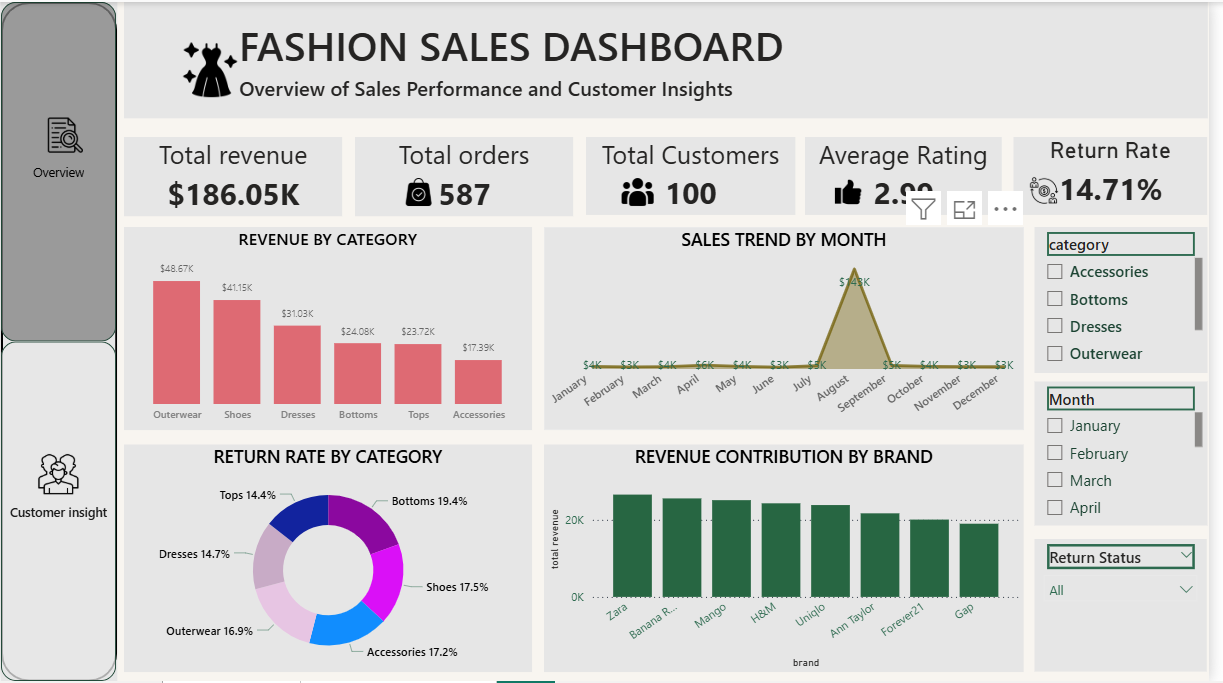

The dashboard page shown, as its layout file describes it:
{"tool":"powerbi","page":{"name":"Overview","canvas":[1280,720],"ordinal":0},"visuals":[{"type":"textbox","box":[131.2,0,1149.7,123.1],"z":0},{"type":"image","box":[186.2,43.7,71.2,58.3],"z":1000},{"type":"card","title":"Total revenue","fields":{"Values":["Sum(cleaned_dataset (2).current_price)"]},"box":[131.2,142.5,231.5,84.2],"z":2000},{"type":"card","title":"Total orders","fields":{"Values":["Count(cleaned_dataset (2).order_id)"]},"box":[375.7,142.5,231.5,84.2],"z":3000},{"type":"card","title":"Total Customers","fields":{"Values":["Count(cleaned_dataset (2).customer_id)"]},"box":[620.2,142.5,221.8,82.6],"z":4000},{"type":"card","title":"Average Rating","fields":{"Values":["cleaned_dataset (2).avg rating"]},"box":[853.3,142.5,208.9,82.6],"z":5000},{"type":"card","title":"Return Rate","fields":{"Values":["Avg(cleaned_dataset (2).is_returned)"]},"box":[1073.5,142.5,205.6,82.6],"z":6000},{"type":"shape","box":[0,0,123.1,720.6],"z":7000},{"type":"pageNavigator","box":[0,0,122.5,720.5],"z":8000},{"type":"columnChart","title":"REVENUE BY CATEGORY","fields":{"Y":["Sum(cleaned_dataset (2).current_price)"],"Category":["cleaned_dataset (2).category"]},"box":[131.2,238,432.3,215.4],"z":9000},{"type":"lineChart","title":"SALES TREND BY MONTH","fields":{"Category":["cleaned_dataset (2).purchase_date.Variation.Date Hierarchy.Month"],"Y":["Sum(cleaned_dataset (2).current_price)"]},"box":[576.4,238,508.4,215.4],"z":10000},{"type":"columnChart","title":"REVENUE CONTRIBUTION BY BRAND","fields":{"Category":["cleaned_dataset (2).brand"],"Y":["cleaned_dataset (2).total revenue"]},"box":[576.4,469.6,508.4,241.3],"z":11000},{"type":"donutChart","title":"RETURN RATE BY CATEGORY","fields":{"Y":["Sum(cleaned_dataset (2).is_returned)"],"Category":["cleaned_dataset (2).category"]},"box":[131.2,469.6,432.3,241.3],"z":12000},{"type":"image","box":[30.8,479.3,61.5,43.7],"z":13000},{"type":"image","box":[30.8,123.1,76.1,37.2],"z":14000},{"type":"slicer","fields":{"Values":["cleaned_dataset (2).category"]},"box":[1096.2,238,183,153.8],"z":15000},{"type":"slicer","fields":{"Values":["cleaned_dataset (2).purchase_date.Variation.Date Hierarchy.Month"]},"box":[1096.2,403.2,183,152.2],"z":16000},{"type":"slicer","fields":{"Values":["cleaned_dataset (2).is_returned"]},"box":[1096.2,570,183,140.9],"z":17000},{"type":"image","box":[406.4,184.6,71.2,34],"z":19000},{"type":"image","box":[639.6,184.6,71.2,34],"z":20000},{"type":"image","box":[879.2,187.8,37.2,27.5],"z":21000},{"type":"image","box":[1084.9,184.6,42.1,30.8],"z":22000}]}

Visuals, with their boxes on the page's 1280x720 design canvas (x1, y1, x2, y2). These are canvas units, not pixel positions in the 1223x683 screenshot, which may show the page scaled, cropped or inside an application window:
textbox: bbox(131, 0, 1281, 123)
image: bbox(186, 44, 257, 102)
"Total revenue" card: bbox(131, 142, 363, 227)
"Total orders" card: bbox(376, 142, 607, 227)
"Total Customers" card: bbox(620, 142, 842, 225)
"Average Rating" card: bbox(853, 142, 1062, 225)
"Return Rate" card: bbox(1074, 142, 1279, 225)
shape: bbox(0, 0, 123, 721)
pageNavigator: bbox(0, 0, 122, 720)
"REVENUE BY CATEGORY" columnChart: bbox(131, 238, 564, 453)
"SALES TREND BY MONTH" lineChart: bbox(576, 238, 1085, 453)
"REVENUE CONTRIBUTION BY BRAND" columnChart: bbox(576, 470, 1085, 711)
"RETURN RATE BY CATEGORY" donutChart: bbox(131, 470, 564, 711)
image: bbox(31, 479, 92, 523)
image: bbox(31, 123, 107, 160)
slicer - cleaned_dataset (2).category: bbox(1096, 238, 1279, 392)
slicer - cleaned_dataset (2).purchase_date.Variation.Date Hierarchy.Month: bbox(1096, 403, 1279, 555)
slicer - cleaned_dataset (2).is_returned: bbox(1096, 570, 1279, 711)
image: bbox(406, 185, 478, 219)
image: bbox(640, 185, 711, 219)
image: bbox(879, 188, 916, 215)
image: bbox(1085, 185, 1127, 215)
